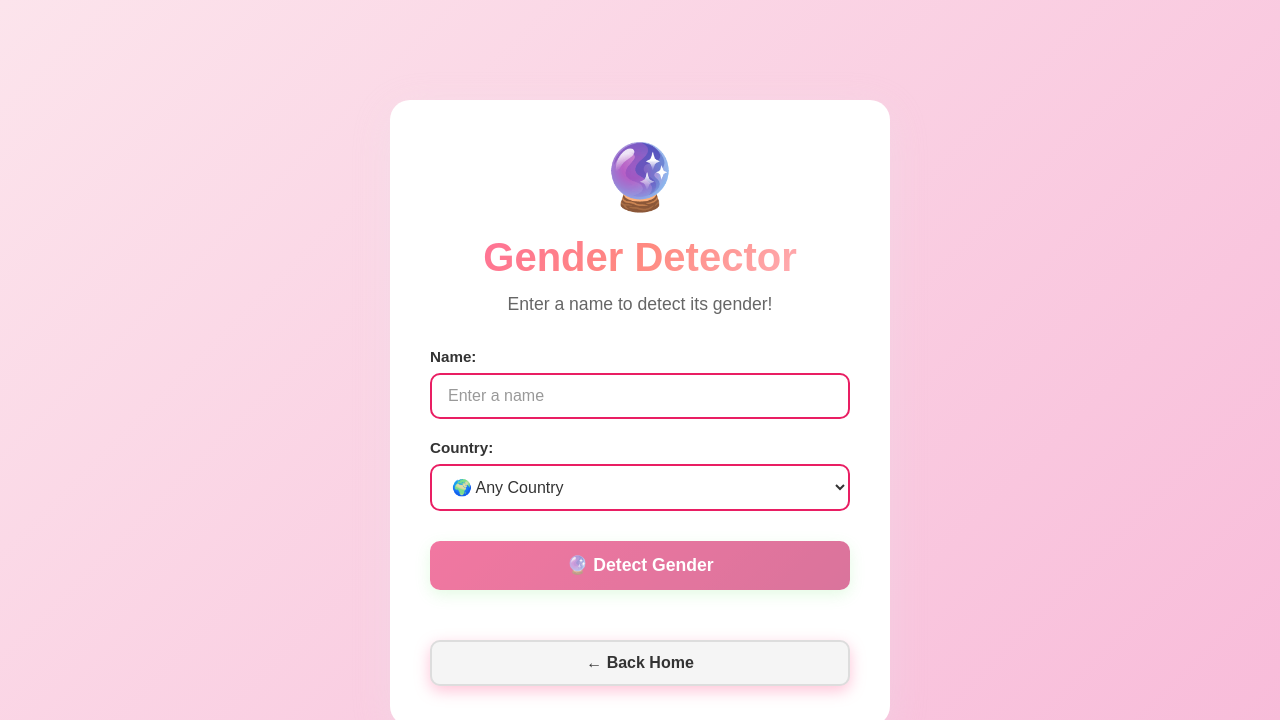
Test case: GenderPicker › shows error message on API failure
In the field with id "name": (640, 396) top-left (430, 373), bottom-right (850, 419), type "TestName"
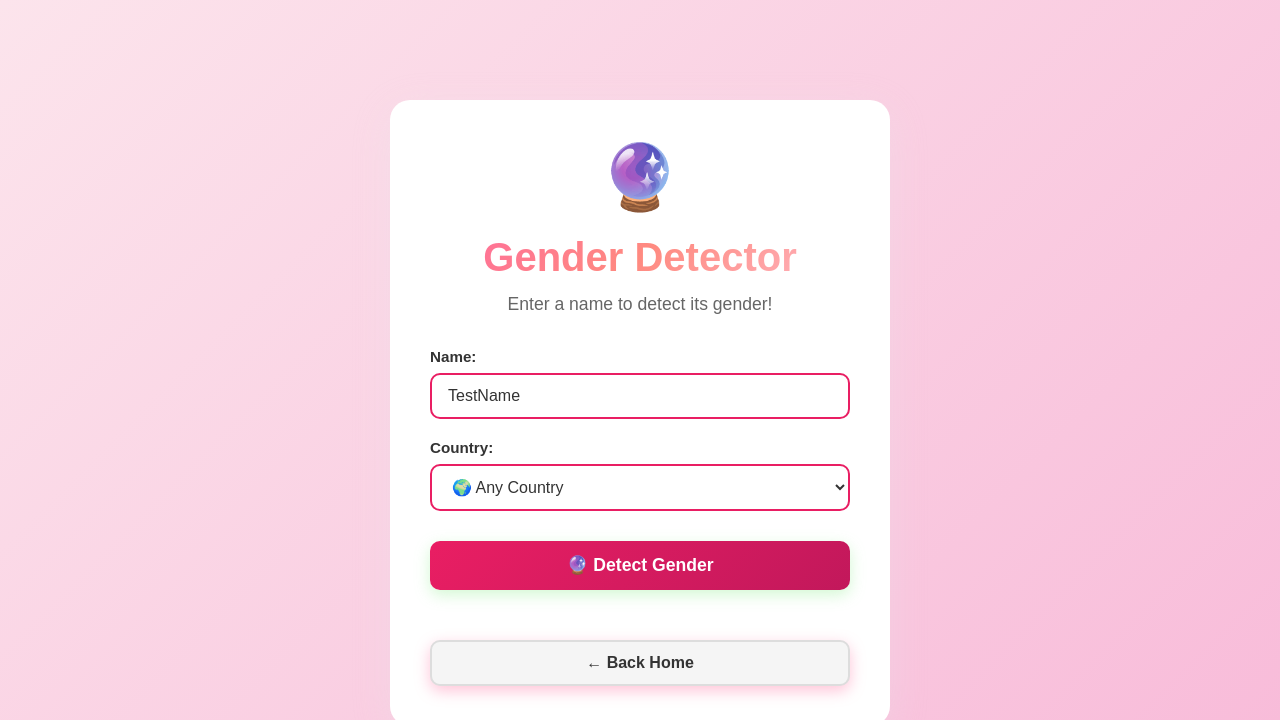
Submit the form, box top-left (430, 348), bottom-right (850, 590)
(page scrolled)
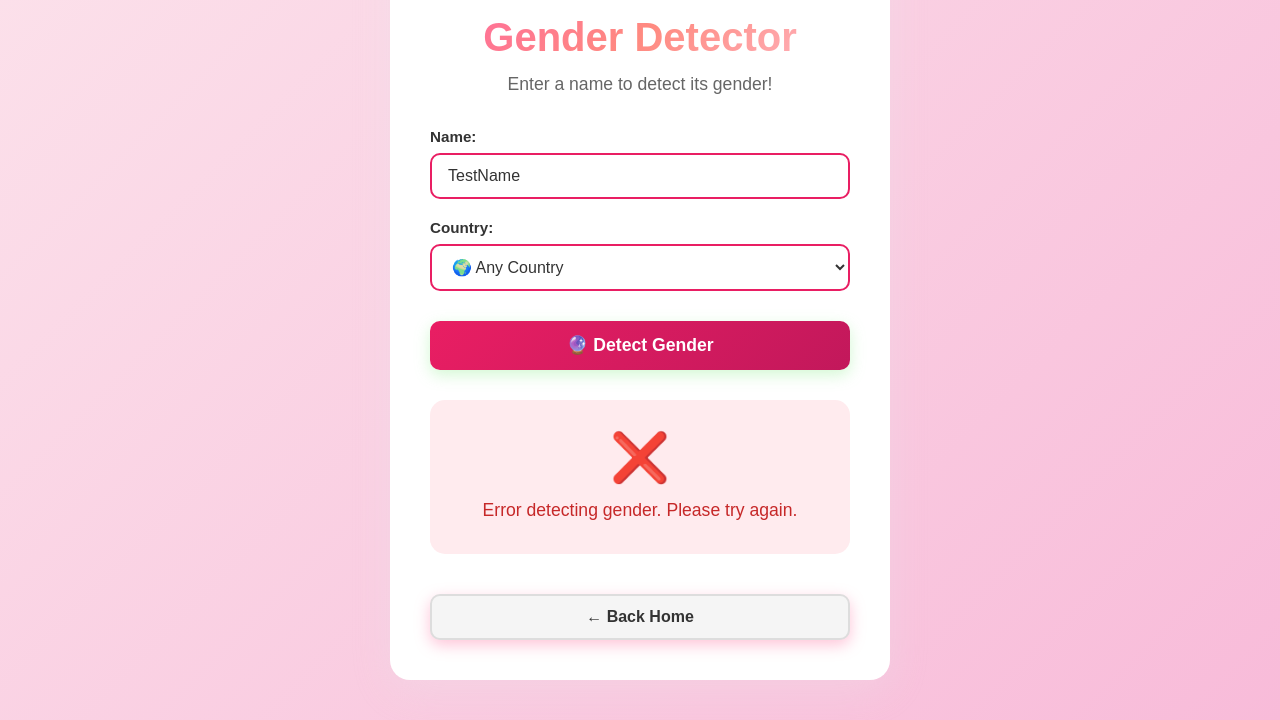
Check: the message "❌ Error detecting gender. Please try again." is shown, box top-left (430, 400), bottom-right (850, 554)
Check: the message with class "gender-error" shows "Error detecting gender", box top-left (482, 500), bottom-right (797, 520)
